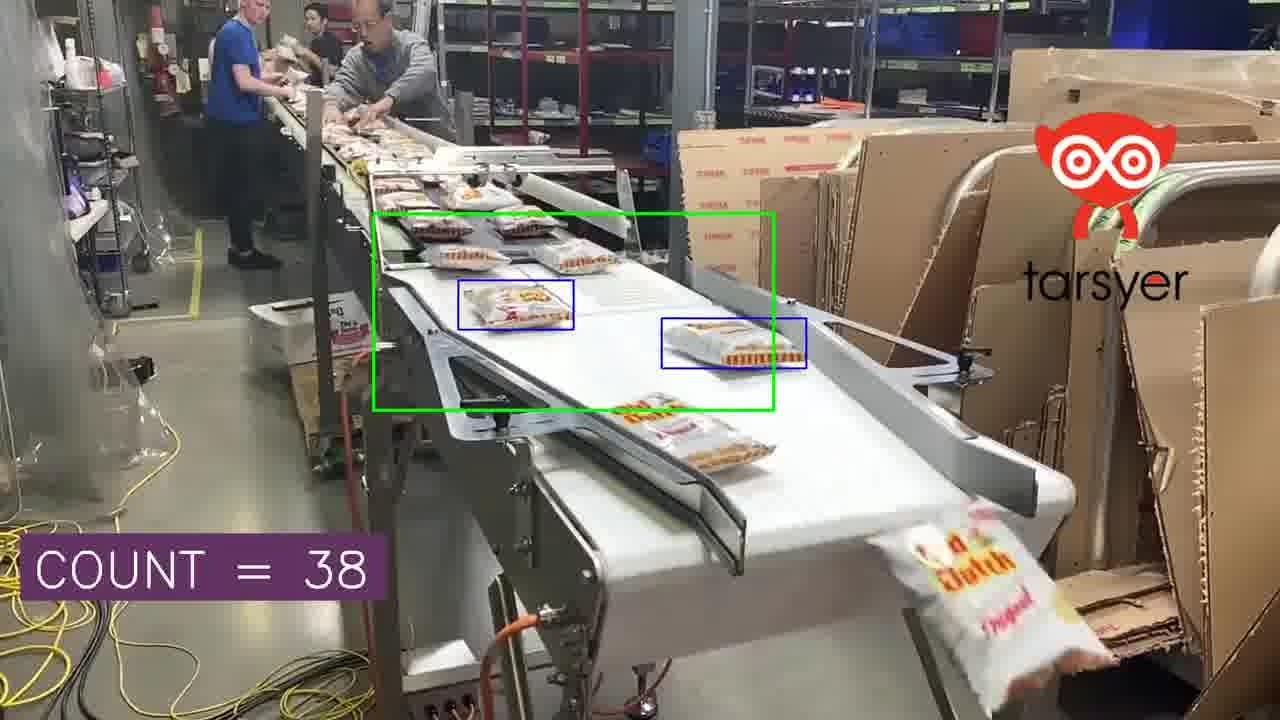Snack: (869, 500, 1114, 713), (610, 393, 774, 472), (664, 319, 804, 366), (464, 283, 571, 327), (530, 239, 618, 269), (491, 205, 562, 237), (423, 244, 510, 270), (446, 182, 518, 211), (396, 215, 472, 240), (377, 190, 438, 211), (337, 141, 375, 162), (372, 177, 421, 192)
